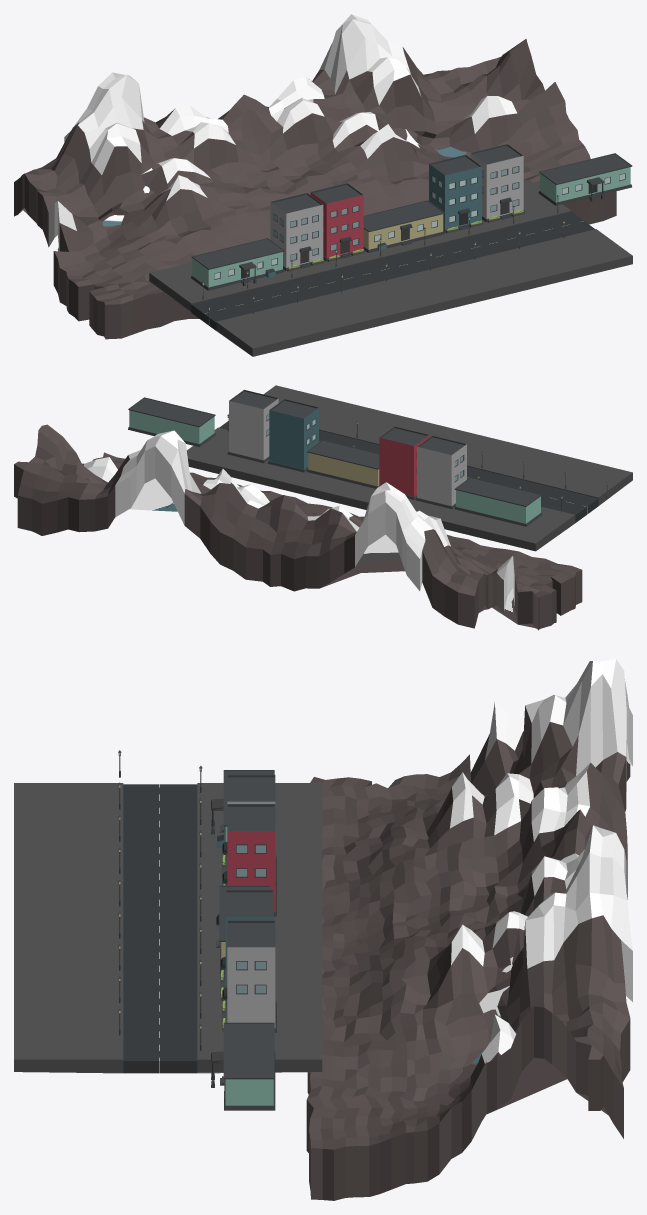
File: CenaCidade.FBX
3 views of the same model, one above another, from view 1: azimuth 30°, elevation 25°; view 2: azimuth 150°, elevation 25°; view 3: azimuth 270°, elevation 25° (orthographic). The views are drawn at different scales.
Visible parts, largest first — view 1: CenaCidade, Rua, Object006, Object003, Object002, Object007, Object004, Object005, Object001; view 2: CenaCidade, Rua, Object006, Object003, Object002, Object007, Object005, Object004; view 3: CenaCidade, Rua, Object006, Object007, Object004, Object003, Object001, Object002, Object005.
Part boxes in pixels (x1,y1,x2,y2): CenaCidade: [14, 14, 616, 339]; Rua: [149, 180, 632, 356]; Object006: [429, 144, 524, 233]; Object003: [270, 193, 324, 271]; Object002: [191, 238, 284, 290]; Object007: [538, 153, 632, 205]; Object004: [310, 183, 364, 261]; Object005: [363, 200, 444, 252]; Object001: [202, 195, 564, 324]; CenaCidade: [14, 424, 582, 630]; Rua: [186, 385, 632, 551]; Object006: [227, 389, 318, 472]; Object003: [415, 435, 466, 508]; Object002: [454, 477, 542, 526]; Object007: [128, 397, 215, 446]; Object005: [306, 439, 379, 488]; Object004: [379, 426, 428, 499]; CenaCidade: [306, 659, 632, 1200]; Rua: [14, 783, 322, 1073]; Object006: [220, 889, 276, 1032]; Object007: [211, 1022, 275, 1110]; Object004: [222, 804, 276, 916]; Object003: [221, 774, 276, 886]; Object001: [118, 750, 202, 1051]; Object002: [211, 770, 274, 857]; Object005: [216, 885, 270, 973].
Size of the model in its own units: 3473 by 1099 by 2420.
